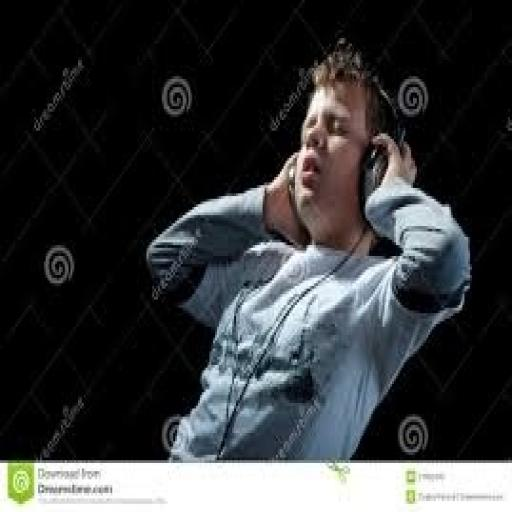listening_to_music: (143, 38, 474, 463)
